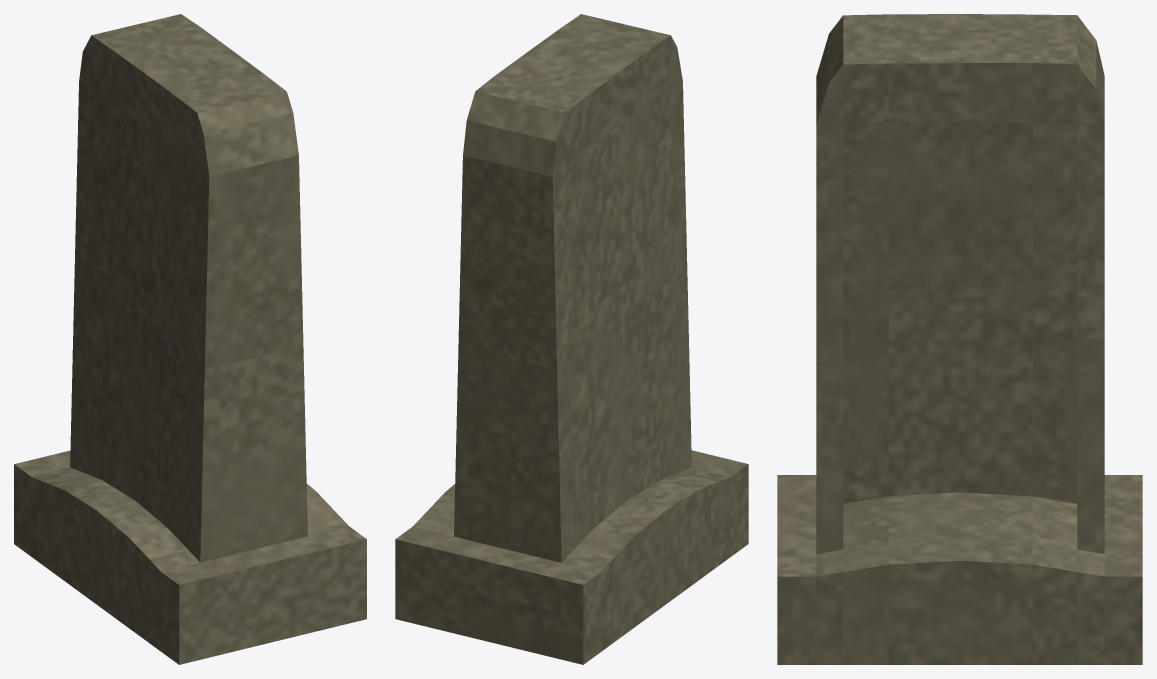
The model's file is TESTTHIS.fbx.
The picture shows the model from 3 angles, left to right: view 1: azimuth 30°, elevation 25°; view 2: azimuth 150°, elevation 25°; view 3: azimuth 270°, elevation 25°; orthographic projection. The views are drawn at different scales.
Parts seen in each view (by area): view 1: Cube; view 2: Cube; view 3: Cube.
Boxes of the visible parts, bbox=[...] form: Cube: bbox=[14, 14, 366, 664]; Cube: bbox=[395, 14, 748, 664]; Cube: bbox=[777, 14, 1142, 664].
Size of the model in its own units: 231 by 611 by 352.
1 material, 1 textured.
